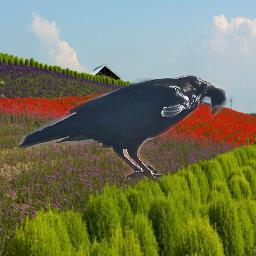Crow: (15, 73, 228, 183)
